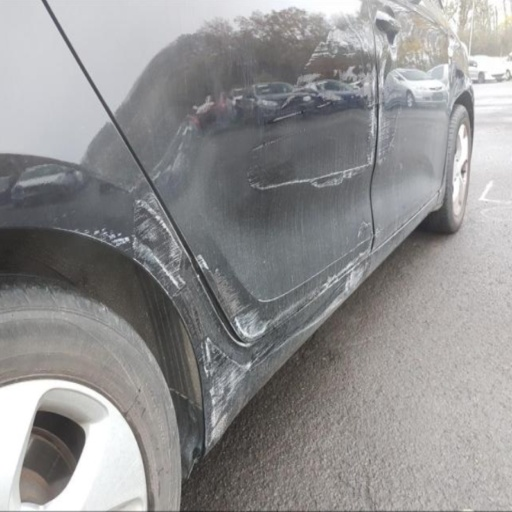scratch: (247, 65, 375, 188), (270, 221, 373, 321), (258, 238, 371, 303), (198, 256, 266, 345), (133, 190, 184, 297), (204, 348, 247, 450), (200, 280, 256, 348), (281, 290, 346, 345), (152, 115, 198, 183), (376, 63, 401, 166), (58, 225, 132, 257), (305, 29, 364, 68), (281, 73, 326, 111), (339, 256, 371, 298), (252, 130, 307, 151), (256, 345, 282, 365), (269, 112, 304, 123), (229, 321, 245, 342), (193, 255, 210, 272), (369, 66, 376, 101), (318, 100, 333, 109)
